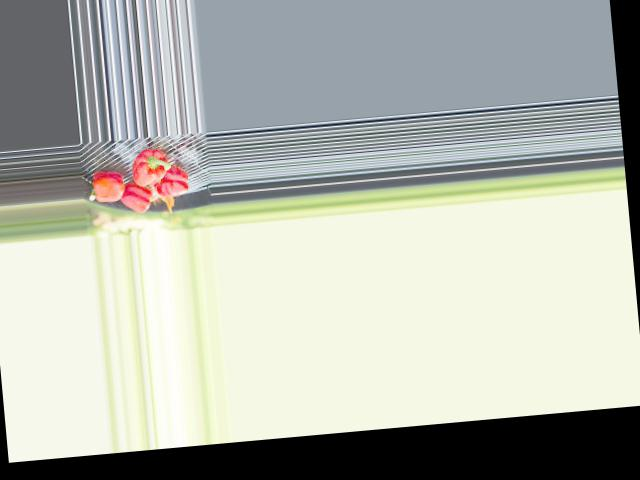bell_pepper: (152, 165, 191, 199)
